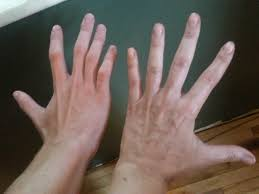hand: (123, 7, 255, 179), (10, 11, 119, 169)
